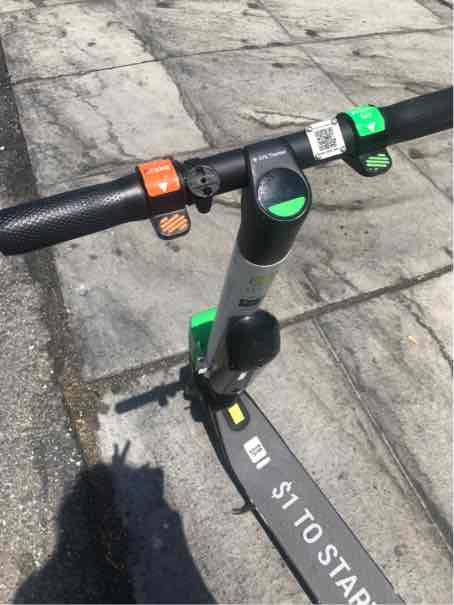scooter: (64, 89, 442, 605)
